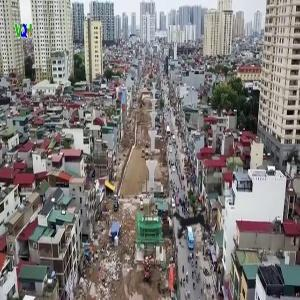drone: (151, 179, 240, 268)
